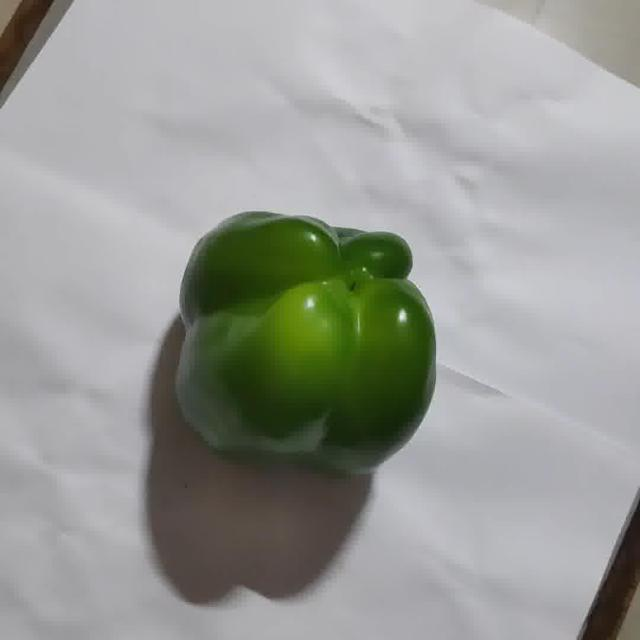Bell Pepper: (177, 212, 435, 473)
